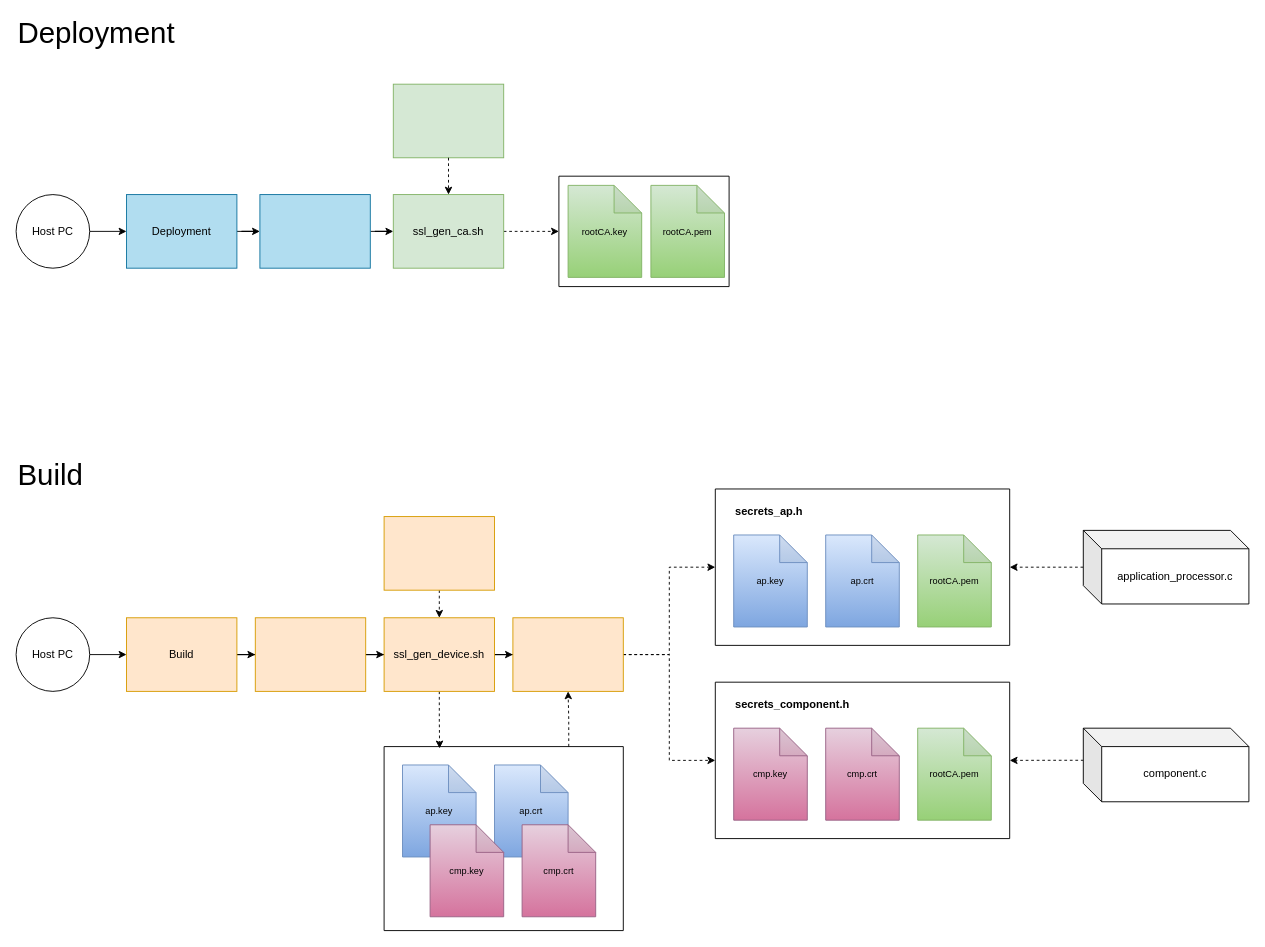
Image size: 1265x947. Some labels were removed from this diagram. Here are the shapes that lost their labels. From the top down, the centre of each, then its label:
(x=448, y=120): openssl_ca.conf
(x=314, y=231): Makefile
(x=438, y=553): openssl_device.conf
(x=310, y=654): common.mk
(x=567, y=654): make_ssl_headers.py
